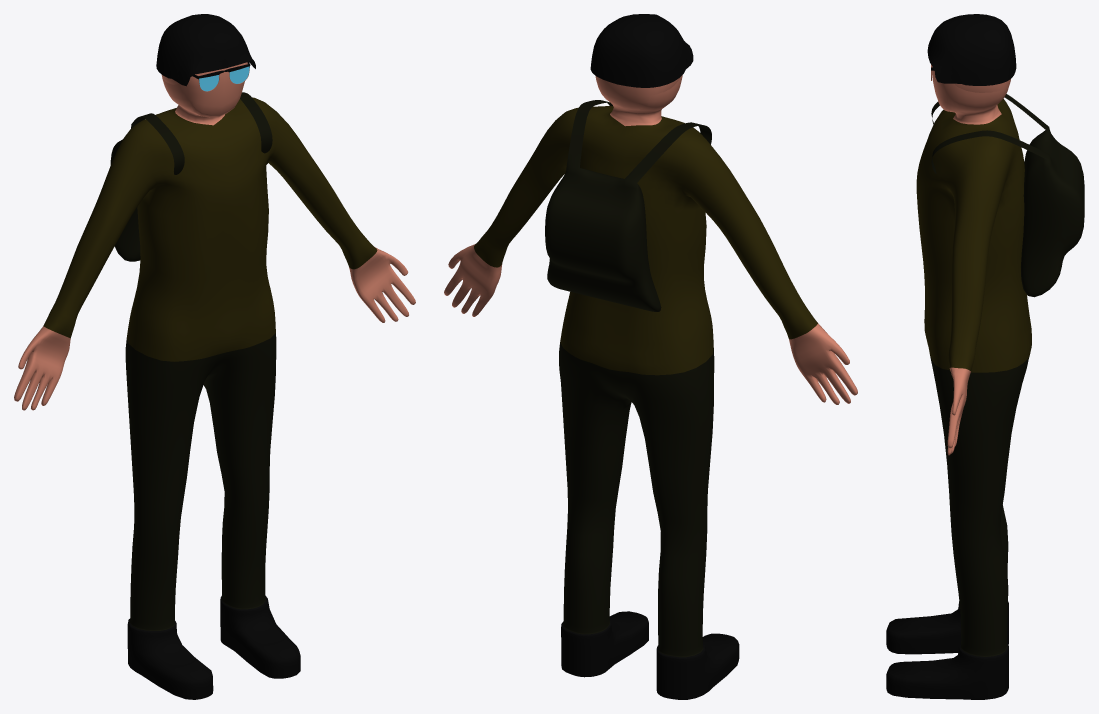
The model's file is Player_ori.obj.
The picture shows the model from 3 angles, left to right: view 1: azimuth 30°, elevation 25°; view 2: azimuth 150°, elevation 25°; view 3: azimuth 270°, elevation 25°; orthographic projection. The views are drawn at different scales.
Parts seen in each view (by area): view 1: Body, Bag; view 2: Body, Bag; view 3: Body, Bag.
Part boxes in pixels (left/top/right/bottom): Body: left=14, top=14, right=415, bottom=699; Bag: left=110, top=92, right=272, bottom=261; Body: left=444, top=14, right=857, bottom=699; Bag: left=545, top=100, right=711, bottom=311; Body: left=886, top=14, right=1031, bottom=699; Bag: left=931, top=94, right=1084, bottom=297.
Bounding box in the file's own units: 4.18 × 6.34 × 1.76.
